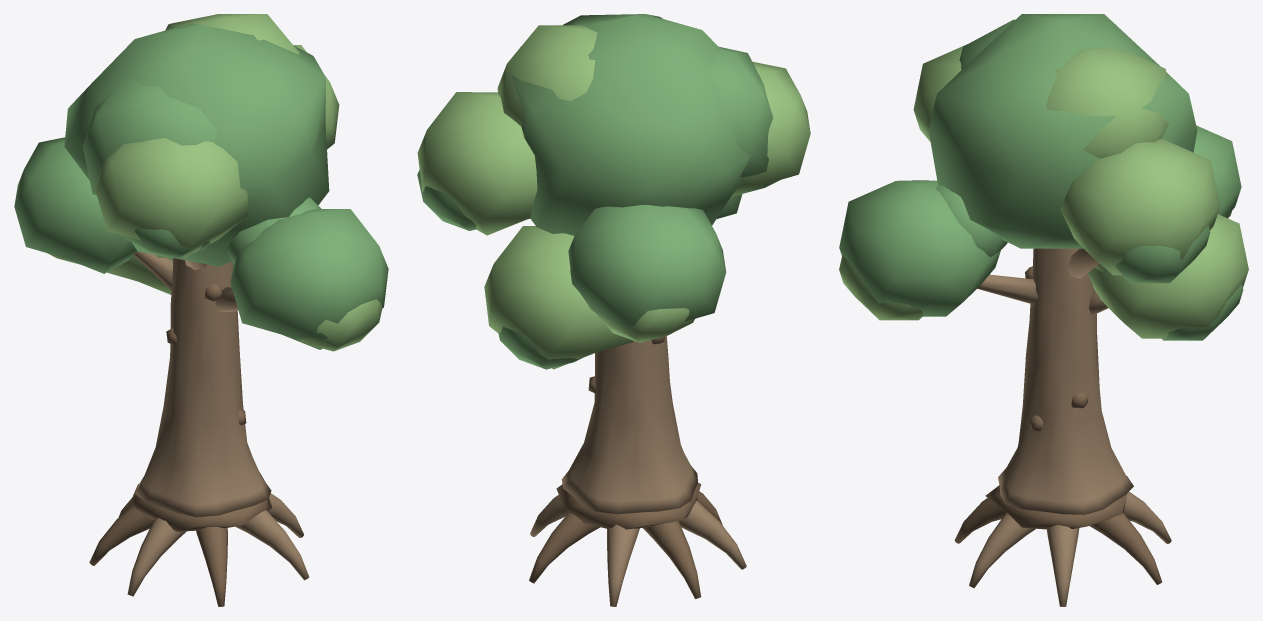
The model's file is ancient_tree.glb.
3 views of the same model, side by side, from view 1: azimuth 30°, elevation 25°; view 2: azimuth 150°, elevation 25°; view 3: azimuth 270°, elevation 25° (orthographic).
Visible parts, largest first — view 1: Ancient_Canopy_0, Ancient_Trunk, Ancient_Canopy_12, Ancient_Canopy_9, Ancient_Canopy_6, Ancient_Canopy_2, Ancient_Canopy_13, Ancient_Mound, Ancient_Canopy_1, Ancient_Root_4, Ancient_Root_6, Ancient_Root_5 (+7 smaller); view 2: Ancient_Canopy_0, Ancient_Trunk, Ancient_Canopy_6, Ancient_Canopy_3, Ancient_Canopy_15, Ancient_Canopy_1, Ancient_Canopy_2, Ancient_Canopy_9, Ancient_Mound, Ancient_Canopy_7, Ancient_Root_3, Ancient_Root_2 (+5 smaller); view 3: Ancient_Canopy_0, Ancient_Trunk, Ancient_Canopy_12, Ancient_Canopy_3, Ancient_Canopy_15, Ancient_Canopy_1, Ancient_Canopy_4, Ancient_Canopy_6, Ancient_Canopy_9, Ancient_Mound, Ancient_Canopy_13, Ancient_Root_1 (+9 smaller).
Part boxes in pixels (x1,y1,x2,y2): Ancient_Canopy_0: (64, 23, 329, 266); Ancient_Trunk: (135, 258, 271, 517); Ancient_Canopy_12: (230, 209, 388, 349); Ancient_Canopy_9: (95, 138, 248, 257); Ancient_Canopy_6: (14, 137, 137, 273); Ancient_Canopy_2: (83, 76, 217, 195); Ancient_Canopy_13: (299, 299, 382, 351); Ancient_Mound: (129, 484, 271, 531); Ancient_Canopy_1: (165, 14, 299, 54); Ancient_Root_4: (127, 518, 186, 596); Ancient_Root_6: (235, 510, 309, 580); Ancient_Root_5: (196, 527, 227, 606); Ancient_Canopy_0: (510, 14, 751, 235); Ancient_Trunk: (561, 336, 697, 514); Ancient_Canopy_6: (568, 204, 726, 329); Ancient_Canopy_3: (417, 92, 537, 235); Ancient_Canopy_15: (484, 226, 633, 369); Ancient_Canopy_1: (497, 25, 597, 126); Ancient_Canopy_2: (703, 46, 773, 177); Ancient_Canopy_9: (731, 61, 810, 197); Ancient_Mound: (556, 482, 701, 529); Ancient_Canopy_7: (598, 308, 694, 342); Ancient_Root_3: (643, 521, 700, 598); Ancient_Root_2: (607, 524, 639, 606); Ancient_Canopy_0: (928, 14, 1197, 248); Ancient_Trunk: (998, 248, 1133, 514); Ancient_Canopy_12: (839, 180, 1000, 316); Ancient_Canopy_3: (1060, 139, 1219, 275); Ancient_Canopy_15: (1088, 214, 1248, 338); Ancient_Canopy_1: (1046, 47, 1168, 158); Ancient_Canopy_4: (1115, 225, 1210, 283); Ancient_Canopy_6: (1193, 125, 1241, 217); Ancient_Canopy_9: (913, 44, 966, 141); Ancient_Mound: (985, 485, 1126, 529); Ancient_Canopy_13: (839, 255, 923, 320); Ancient_Root_1: (1089, 513, 1161, 584).
Bounding box in the file's own units: 6.01 × 10.56 × 7.27.
